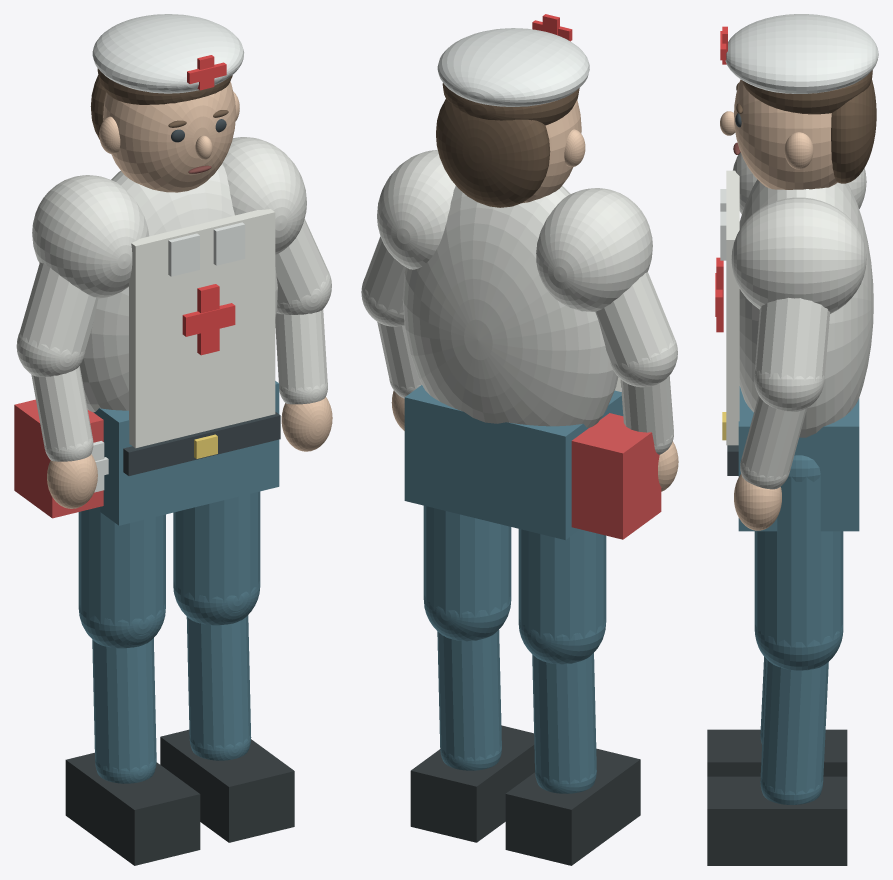
The model's file is player_paramedic.glb.
3 renders of one model, left to right at view 1: azimuth 30°, elevation 25°; view 2: azimuth 150°, elevation 25°; view 3: azimuth 270°, elevation 25°, orthographic.
Visible parts, largest first — view 1: medical_coat, shoulder_left, left_boot, pelvis, head, right_boot, torso_base, left_trouser_upper, medical_cap, right_trouser_upper, left_trouser_lower, right_trouser_lower (+24 smaller); view 2: torso_base, pelvis, shoulder_left, left_boot, medical_cap, medical_bag, left_trouser_upper, hair_back, right_boot, right_trouser_upper, right_trouser_lower, left_trouser_lower (+15 smaller); view 3: shoulder_right, right_trouser_upper, right_boot, torso_base, medical_cap, right_trouser_lower, head, pelvis, right_upper_arm, left_boot, medical_coat, right_forearm (+12 smaller).
Part boxes in pixels (box(x1,y1,x2,y2)): medical_coat: box(129, 209, 275, 448); shoulder_left: box(32, 175, 149, 298); left_boot: box(65, 752, 200, 865); pelvis: box(93, 381, 279, 525); head: box(103, 81, 235, 192); right_boot: box(160, 729, 294, 842); torso_base: box(79, 164, 277, 412); left_trouser_upper: box(78, 507, 165, 625); medical_cap: box(92, 14, 244, 93); right_trouser_upper: box(173, 491, 260, 602); left_trouser_lower: box(92, 638, 156, 772); right_trouser_lower: box(186, 615, 251, 749); torso_base: box(402, 185, 618, 427); pelvis: box(404, 385, 623, 539); shoulder_left: box(536, 188, 652, 311); left_boot: box(505, 748, 640, 865); medical_cap: box(437, 28, 589, 106); medical_bag: box(571, 413, 661, 539); left_trouser_upper: box(518, 529, 606, 640); hair_back: box(436, 99, 550, 207); right_boot: box(410, 725, 534, 842); right_trouser_upper: box(423, 505, 511, 617); right_trouser_lower: box(437, 630, 501, 761); left_trouser_lower: box(532, 653, 596, 784); shoulder_right: box(731, 197, 866, 313); right_trouser_upper: box(754, 475, 843, 647); right_boot: box(707, 776, 847, 865); torso_base: box(739, 179, 873, 437); medical_cap: box(725, 14, 878, 93); right_trouser_lower: box(760, 659, 828, 795); head: box(734, 79, 836, 189); pelvis: box(738, 386, 859, 531); right_upper_arm: box(754, 297, 830, 381); left_boot: box(707, 729, 847, 776); medical_coat: box(726, 170, 739, 445); right_forearm: box(741, 395, 806, 479).
Size of the model in its own units: 0.7449 by 1.82 by 0.355.
